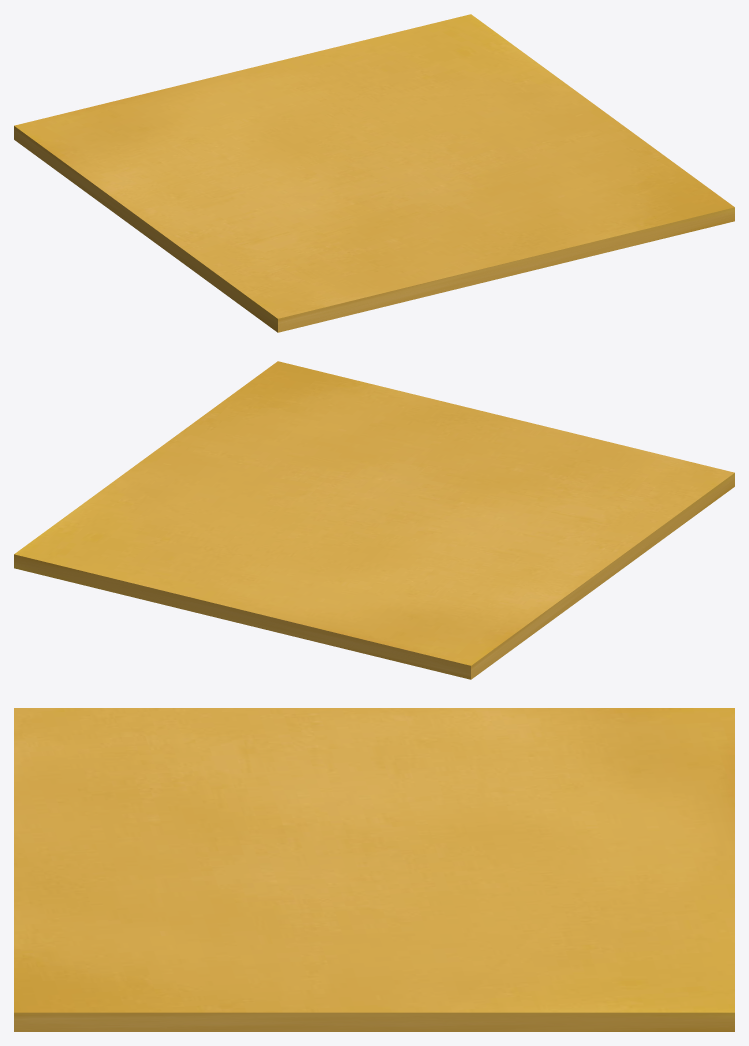
File: squarecheese.fbx
The picture shows the model from 3 angles, top to bottom: view 1: azimuth 30°, elevation 25°; view 2: azimuth 150°, elevation 25°; view 3: azimuth 270°, elevation 25°; orthographic projection. The views are drawn at different scales.
Parts seen in each view (by area): view 1: pCube18; view 2: pCube18; view 3: pCube18.
Part boxes in pixels (bbox=[...]): pCube18: bbox=[14, 14, 734, 332]; pCube18: bbox=[14, 361, 734, 679]; pCube18: bbox=[14, 708, 734, 1031].
Size of the model in its own units: 9.03 by 0.2636 by 9.03.
